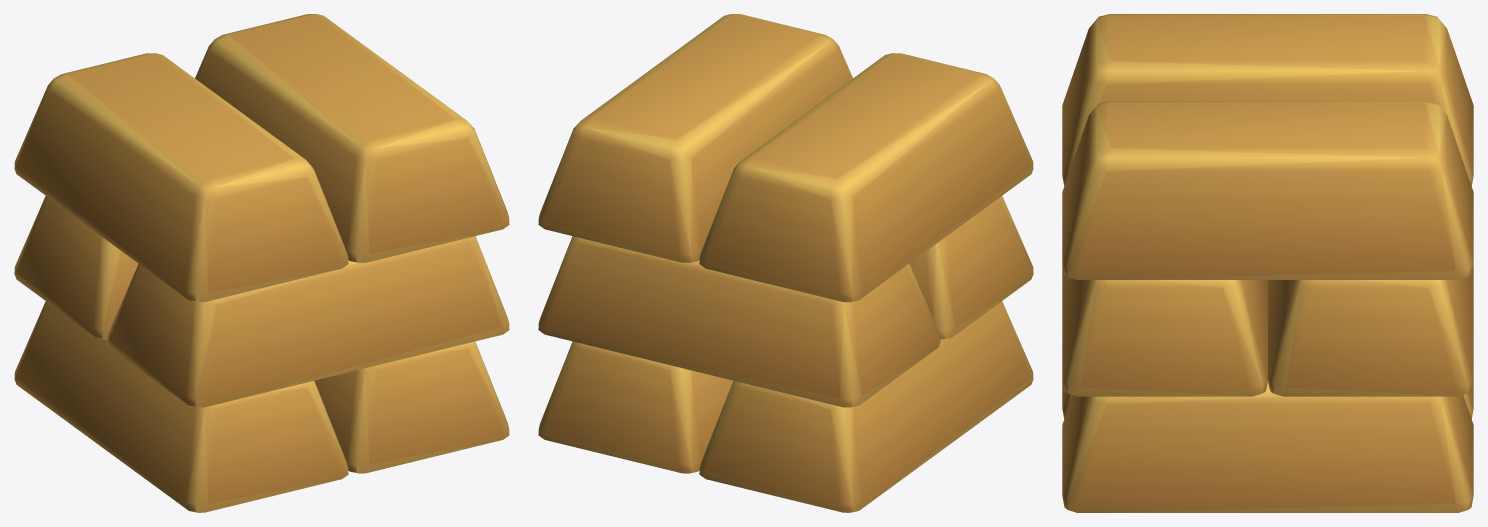
Rendered from gold_bars_stack_small.glb.
3 renders of one model, left to right at view 1: azimuth 30°, elevation 25°; view 2: azimuth 150°, elevation 25°; view 3: azimuth 270°, elevation 25°, orthographic. The views are drawn at different scales.
Visible parts, largest first — view 1: Gold_Bars_Stack_Small; view 2: Gold_Bars_Stack_Small; view 3: Gold_Bars_Stack_Small.
Boxes of the visible parts, left/top/right/bottom form: Gold_Bars_Stack_Small: left=14, top=14, right=509, bottom=512; Gold_Bars_Stack_Small: left=538, top=14, right=1033, bottom=512; Gold_Bars_Stack_Small: left=1062, top=14, right=1473, bottom=512.
Size of the model in its own units: 0.8 by 0.75 by 0.8.
Materials: 1 (1 with a texture image).
